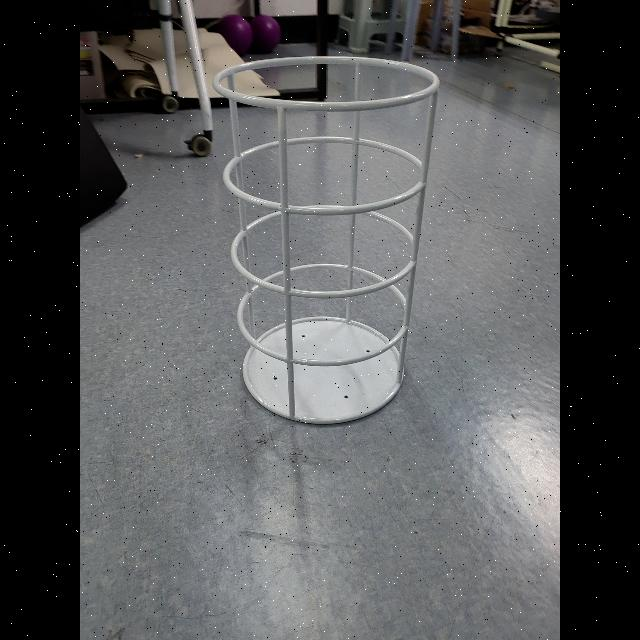S: (212, 51, 448, 433)
